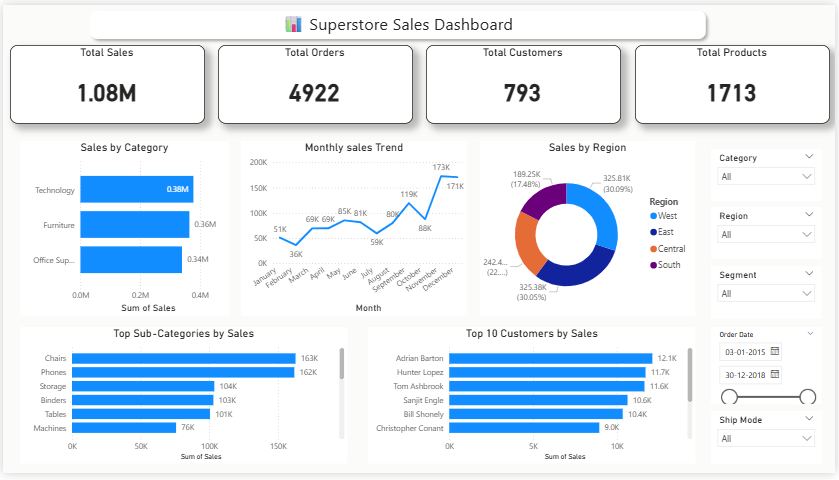

Layout of this report page (visuals, bound fields, positions):
{"tool":"powerbi","page":{"name":"Page 1","canvas":[1280,720],"ordinal":0},"visuals":[{"type":"card","title":"Total Sales","fields":{"Values":["Sum(train.Sales)"]},"box":[10.4,61.2,300,120.9],"z":0},{"type":"card","title":"Total Orders","fields":{"Values":["Count(train.Order ID)"]},"box":[330.8,61.2,300,120.9],"z":1000},{"type":"card","title":"Total Customers","fields":{"Values":["Count(train.Customer ID)"]},"box":[651.2,61.2,300,120.9],"z":2000},{"type":"card","title":"Total Products","fields":{"Values":["Count(train.Product Name)"]},"box":[971.6,61.2,300,120.9],"z":3000},{"type":"clusteredBarChart","title":"Sales by Category","fields":{"Y":["Sum(train.Sales)"],"Category":["train.Category"]},"box":[26.2,209.2,321.5,269.2],"z":4000},{"type":"lineChart","title":" Monthly sales Trend","fields":{"Y":["Sum(train.Sales)"],"Category":["train.Order Date.Variation.Date Hierarchy.Month"]},"box":[366.2,209.2,347.7,269.2],"z":5000},{"type":"donutChart","title":"Sales by Region","fields":{"Y":["Sum(train.Sales)"],"Category":["train.Region"]},"box":[733.8,209.2,330.8,269.2],"z":6000},{"type":"slicer","fields":{"Values":["train.Category"]},"box":[1089.6,220.9,170,80],"z":7000},{"type":"slicer","fields":{"Values":["train.Region"]},"box":[1089.6,311.5,170,80],"z":8000},{"type":"slicer","fields":{"Values":["train.Segment"]},"box":[1089.6,402.1,170,80.6],"z":9000},{"type":"clusteredBarChart","title":"Top Sub-Categories by Sales","fields":{"Y":["Sum(train.Sales)"],"Category":["train.Sub-Category"]},"box":[26.9,495.5,504,210.4],"z":10000},{"type":"shape","box":[123.9,0,965.7,61.2],"z":11000},{"type":"clusteredBarChart","title":"Top 10 Customers by Sales","fields":{"Category":["train.Customer Name"],"Y":["Sum(train.Sales)"]},"box":[561.2,495.5,504.5,210.4],"z":12000},{"type":"slicer","fields":{"Values":["train.Order Date"]},"box":[1089.6,495.5,170.1,119.4],"z":13000},{"type":"slicer","fields":{"Values":["train.Ship Mode"]},"box":[1089.6,623.9,170.1,80.6],"z":14000}]}

Visuals, with their boxes in screenshot pixels (x1, y1, x2, y2), scaled from the page's 1280x720 canvas onto the 839x480 screenshot:
"Total Sales" card: <region>7, 41, 203, 121</region>
"Total Orders" card: <region>217, 41, 413, 121</region>
"Total Customers" card: <region>427, 41, 623, 121</region>
"Total Products" card: <region>637, 41, 833, 121</region>
"Sales by Category" clusteredBarChart: <region>17, 139, 228, 319</region>
" Monthly sales Trend" lineChart: <region>240, 139, 468, 319</region>
"Sales by Region" donutChart: <region>481, 139, 698, 319</region>
slicer - train.Category: <region>714, 147, 826, 201</region>
slicer - train.Region: <region>714, 208, 826, 261</region>
slicer - train.Segment: <region>714, 268, 826, 322</region>
"Top Sub-Categories by Sales" clusteredBarChart: <region>18, 330, 348, 471</region>
shape: <region>81, 0, 714, 41</region>
"Top 10 Customers by Sales" clusteredBarChart: <region>368, 330, 699, 471</region>
slicer - train.Order Date: <region>714, 330, 826, 410</region>
slicer - train.Ship Mode: <region>714, 416, 826, 470</region>
